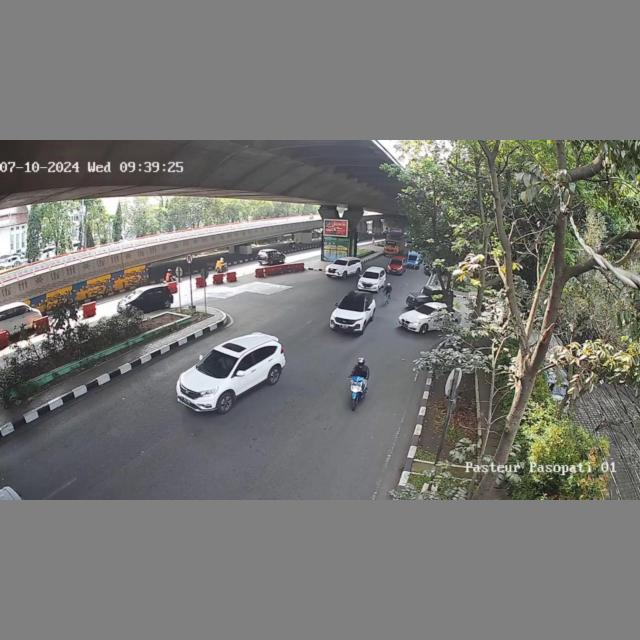windshield: (198, 350, 242, 376), (338, 296, 365, 311), (362, 271, 380, 280), (333, 259, 347, 265)
